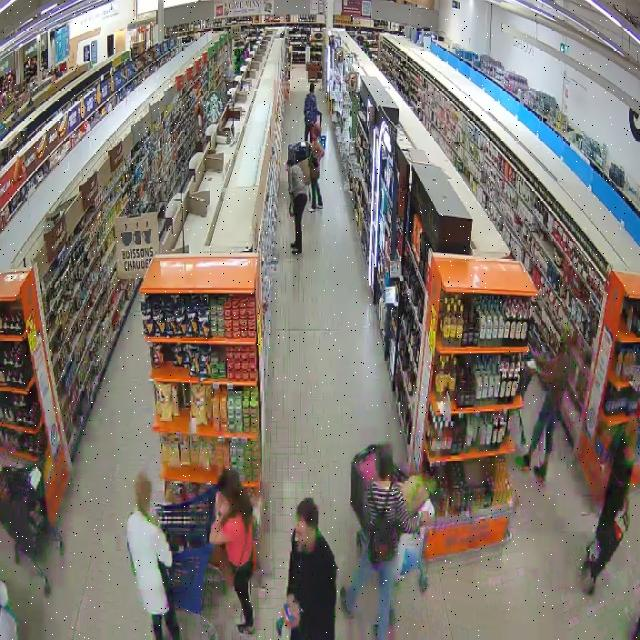article: (280, 600, 304, 628)
bags: (369, 484, 394, 565), (310, 156, 319, 181)
hands: (288, 612, 300, 629), (623, 499, 629, 530), (218, 501, 229, 517), (421, 511, 432, 526), (287, 595, 296, 607), (215, 492, 220, 513)
person: (340, 446, 429, 639), (581, 416, 637, 594), (127, 473, 179, 639), (516, 337, 574, 482), (210, 469, 254, 635), (287, 498, 337, 639), (288, 162, 307, 254), (310, 123, 324, 211), (304, 83, 319, 142)
